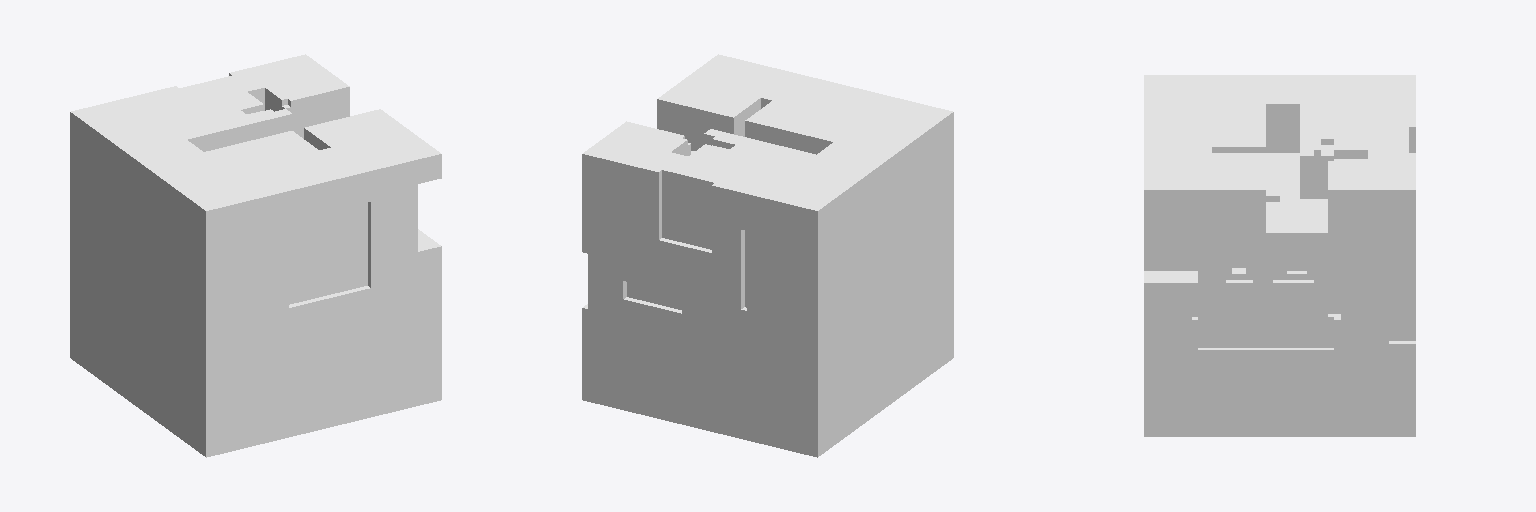
The model's file is smili.obj.
The picture shows the model from 3 angles: view 1: azimuth 30°, elevation 25°; view 2: azimuth 150°, elevation 25°; view 3: azimuth 270°, elevation 25°; orthographic projection.
Visible parts, largest first — view 1: object 1; view 2: object 1; view 3: object 1.
Boxes of the visible parts, x1=… form: object 1: x1=70, y1=54, x2=441, y2=457; object 1: x1=582, y1=54, x2=953, y2=457; object 1: x1=1144, y1=75, x2=1415, y2=436.
Bounding box in the file's own units: 4 × 4 × 4.